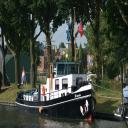tugboat: (15, 31, 99, 123)
